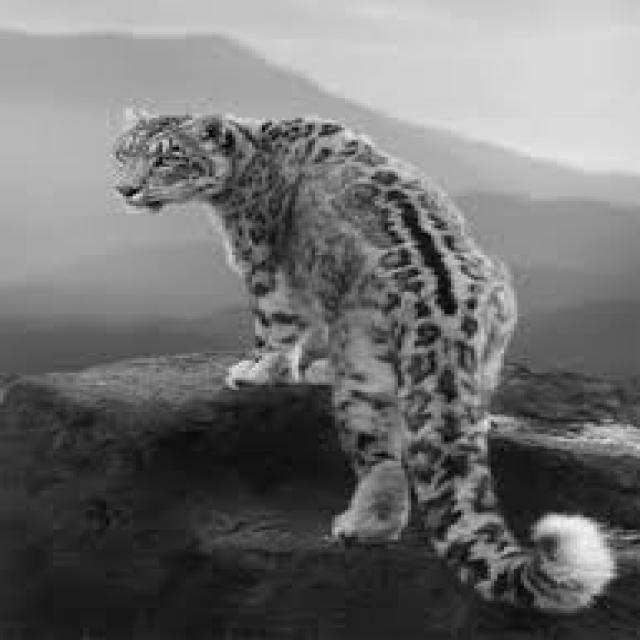Jaguar: (106, 103, 617, 615)
